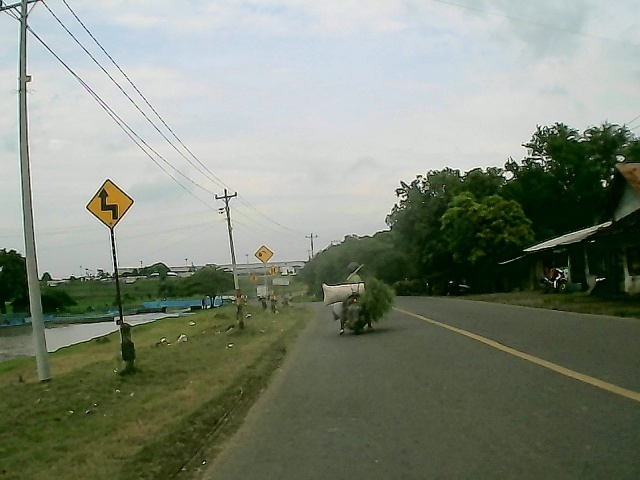Peringatan tepi air: (251, 244, 273, 266)
Tikungan garda pertama kiri: (82, 177, 138, 232)
